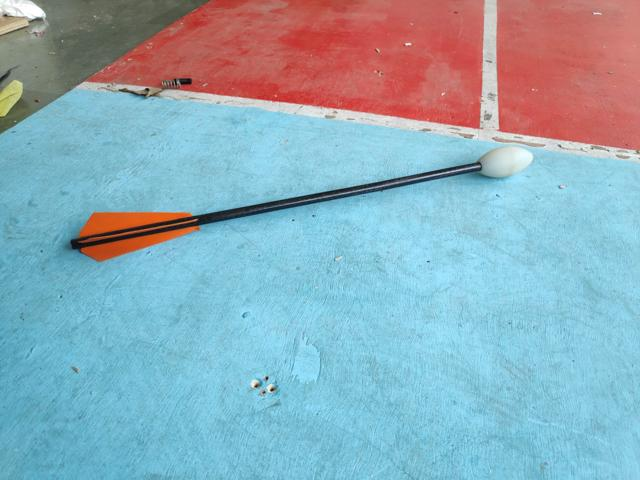Head: (471, 143, 538, 183)
Tail: (67, 208, 202, 266)
